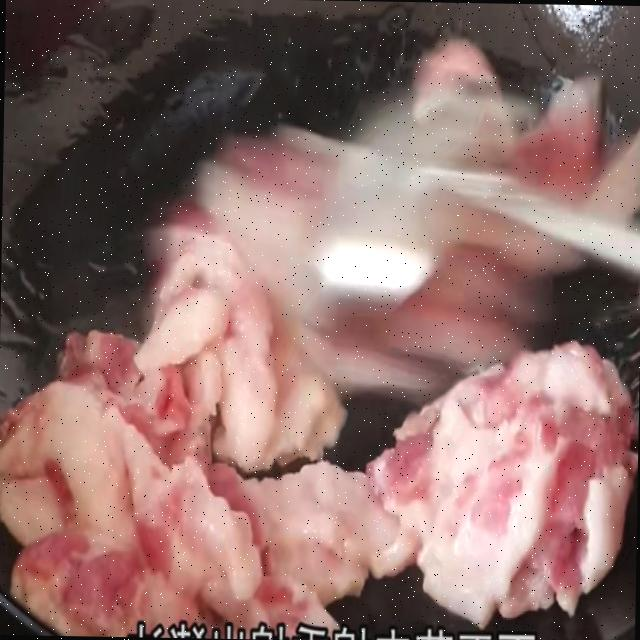meat: (384, 317, 640, 608), (0, 360, 206, 638)
